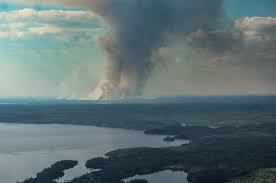yanwu: (66, 1, 227, 102)
